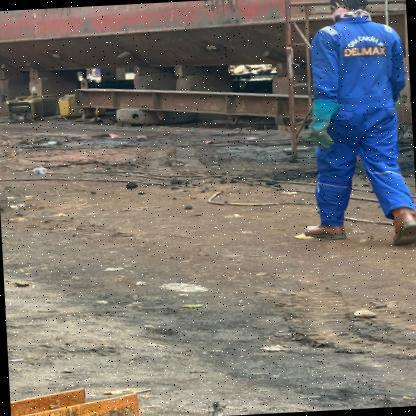bota: (385, 204, 416, 247), (300, 218, 351, 242)
